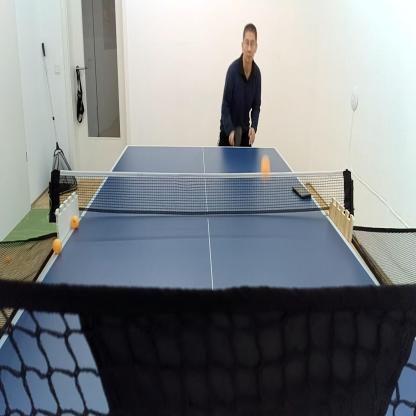Ball: (259, 152, 272, 182), (52, 236, 63, 257), (70, 213, 80, 231), (5, 252, 12, 266), (356, 237, 362, 247)
